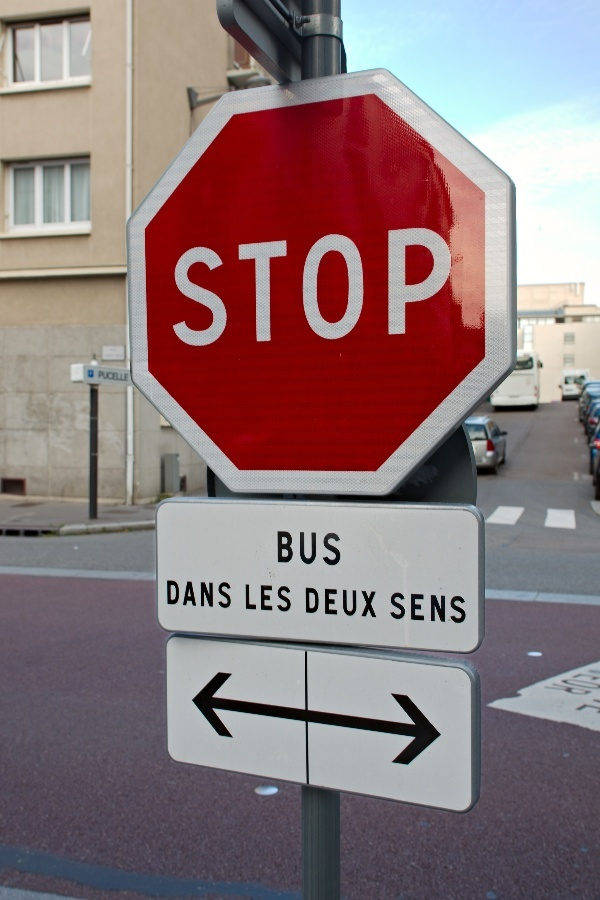text: (177, 224, 192, 351), (193, 224, 208, 351), (209, 224, 224, 351), (225, 224, 240, 351), (241, 224, 256, 351), (257, 224, 272, 351), (273, 224, 288, 351), (289, 224, 304, 351), (305, 224, 320, 351), (321, 224, 336, 351), (337, 224, 352, 351), (353, 224, 368, 351), (369, 224, 384, 351), (385, 224, 400, 351), (401, 224, 416, 351), (417, 224, 432, 351), (433, 224, 448, 351), (449, 224, 462, 351), (166, 224, 176, 351), (289, 530, 304, 567), (305, 530, 320, 567), (321, 530, 336, 567), (401, 592, 416, 624), (417, 592, 432, 624), (433, 592, 448, 624), (449, 592, 464, 624), (257, 582, 272, 613), (273, 582, 288, 613), (305, 587, 320, 618), (321, 587, 336, 618), (337, 587, 352, 618), (353, 587, 368, 618), (276, 530, 288, 567), (177, 580, 192, 609), (193, 580, 208, 609), (209, 580, 224, 609), (577, 676, 592, 700), (245, 582, 256, 613), (166, 580, 176, 609), (391, 592, 400, 624), (369, 587, 378, 618), (225, 580, 232, 609), (337, 530, 342, 567), (113, 370, 128, 382), (98, 370, 112, 382), (569, 676, 576, 700), (593, 676, 600, 700), (289, 582, 292, 613), (465, 592, 467, 624), (113, 353, 125, 357), (103, 353, 112, 357), (129, 370, 130, 382)
